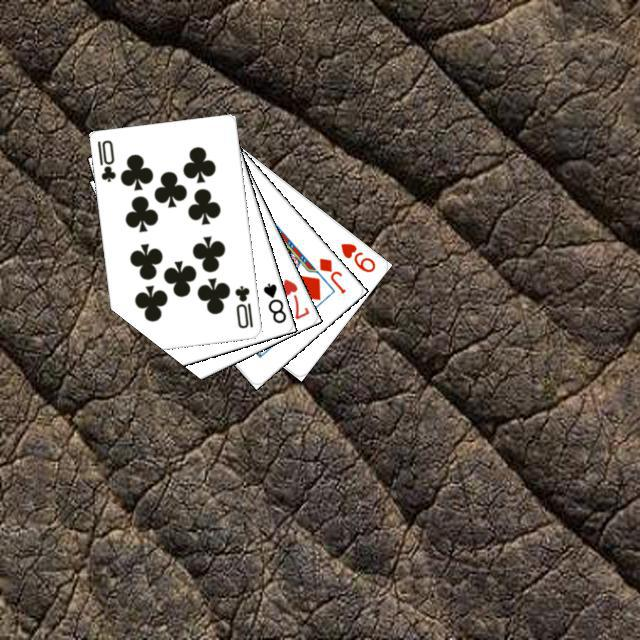10c: (92, 135, 118, 184), (230, 281, 255, 330)
7h: (277, 274, 311, 321)
8s: (258, 278, 288, 325)
9h: (335, 238, 377, 274)
Jd: (314, 253, 347, 296)
